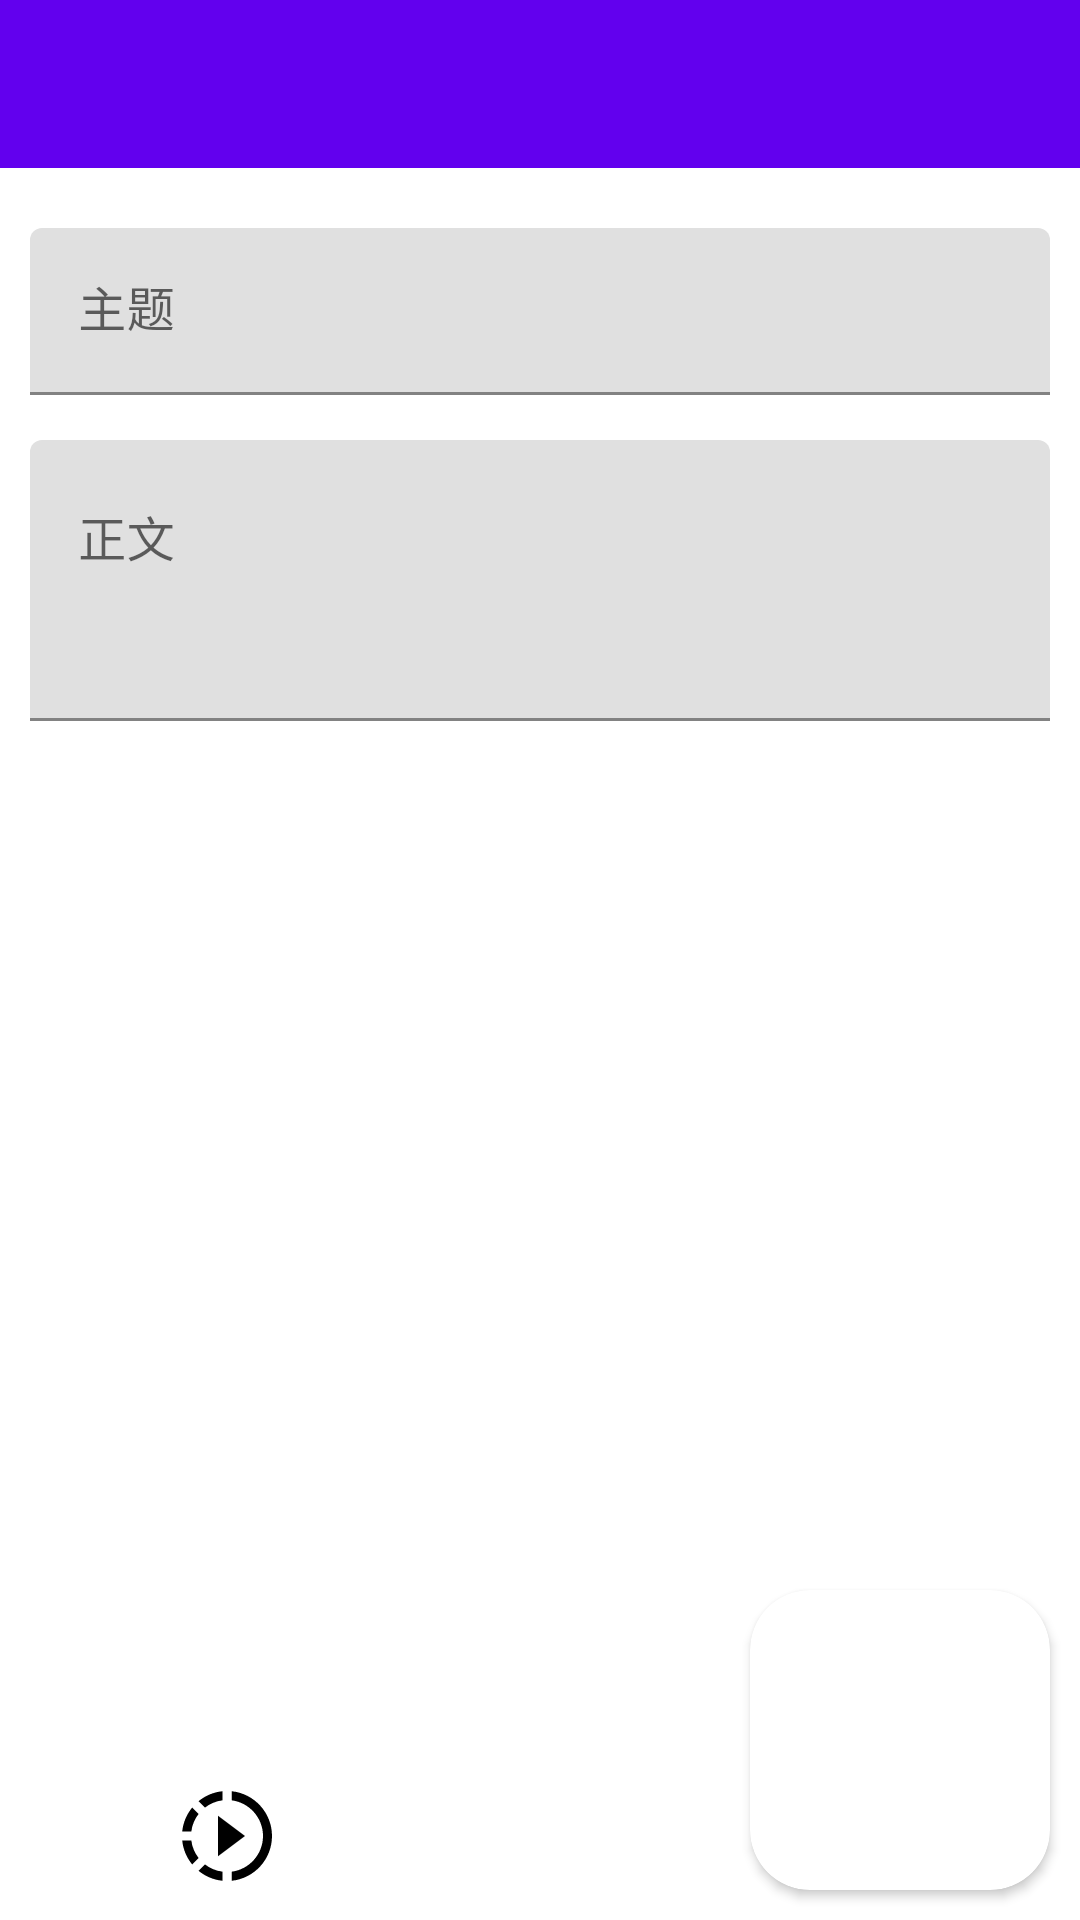

Icons on this 1080×1920 Android screen, each with the point to tap as [x,y]:
Attach video: [227,1836]
